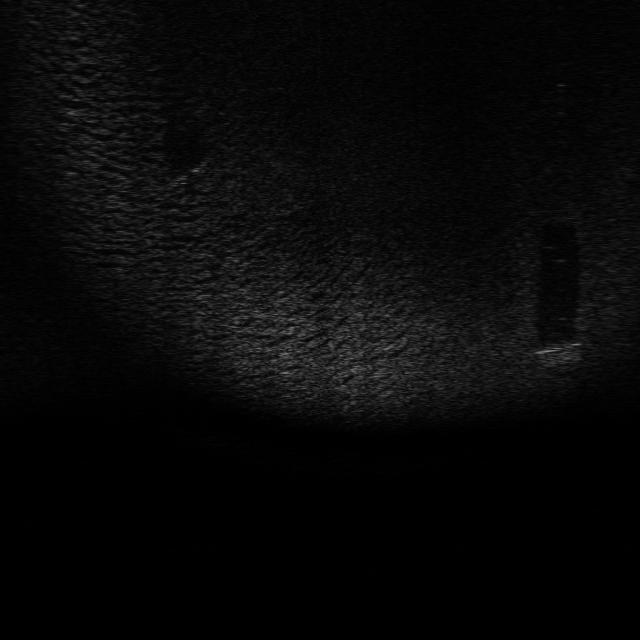cube: (532, 338, 586, 370)
plane: (163, 153, 211, 191)
